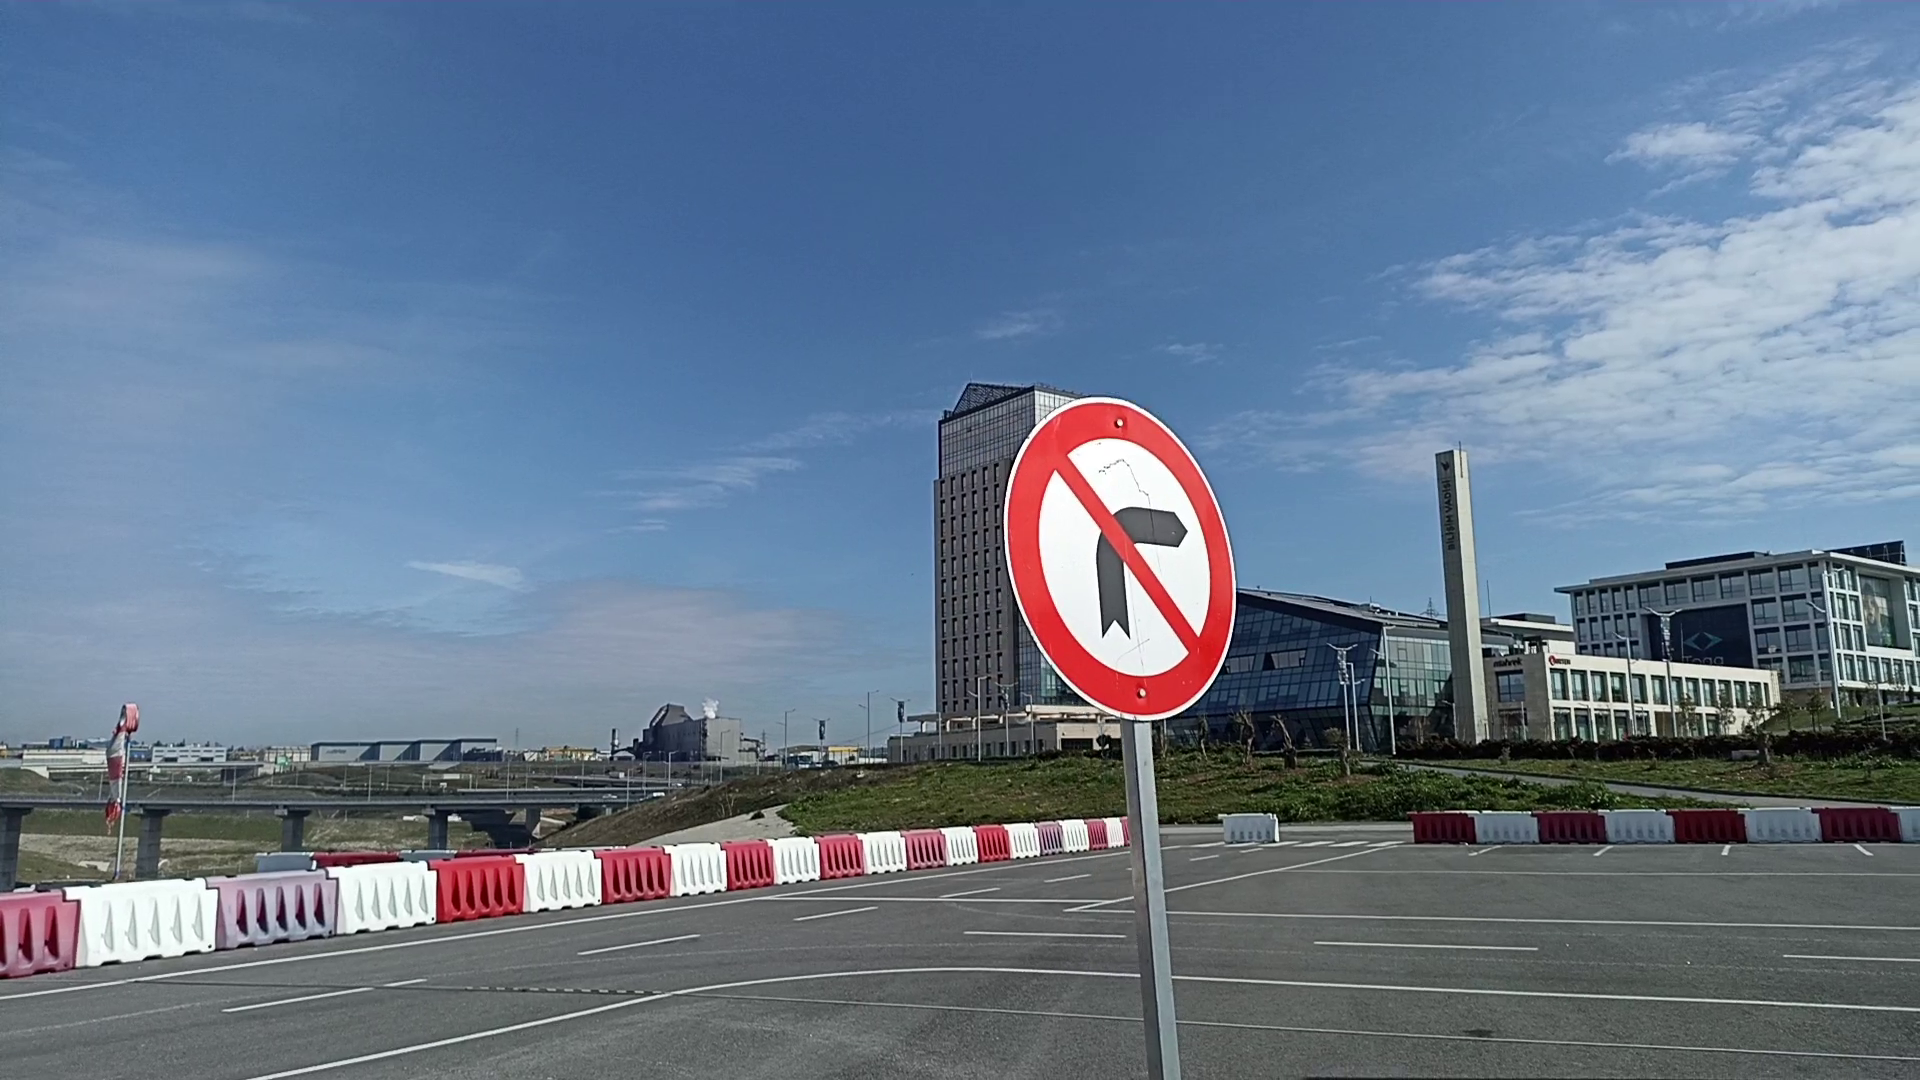noleftturn: (998, 392, 1242, 725)
